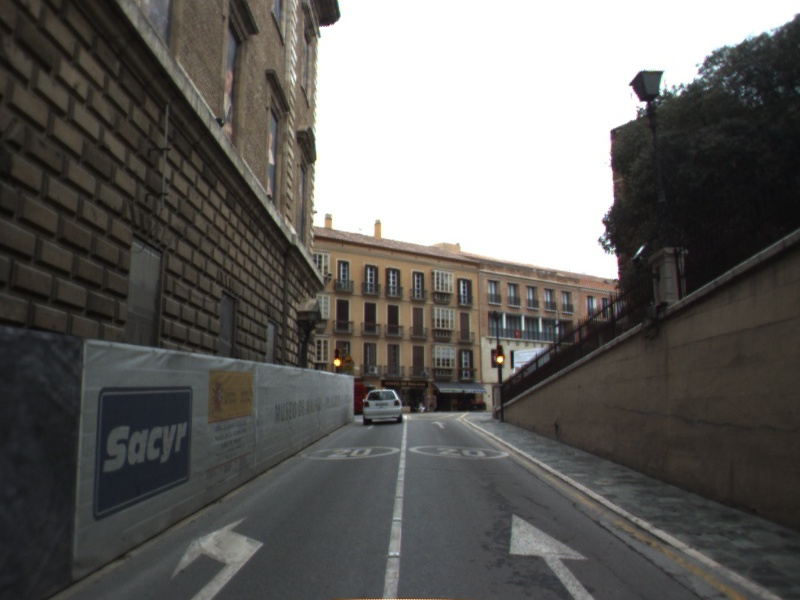LEFT: (168, 513, 265, 600)
STRAIGHT: (508, 512, 598, 600), (430, 419, 448, 430)
